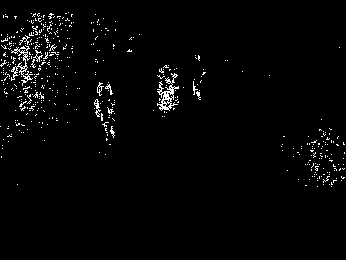person: (94, 79, 123, 146)
